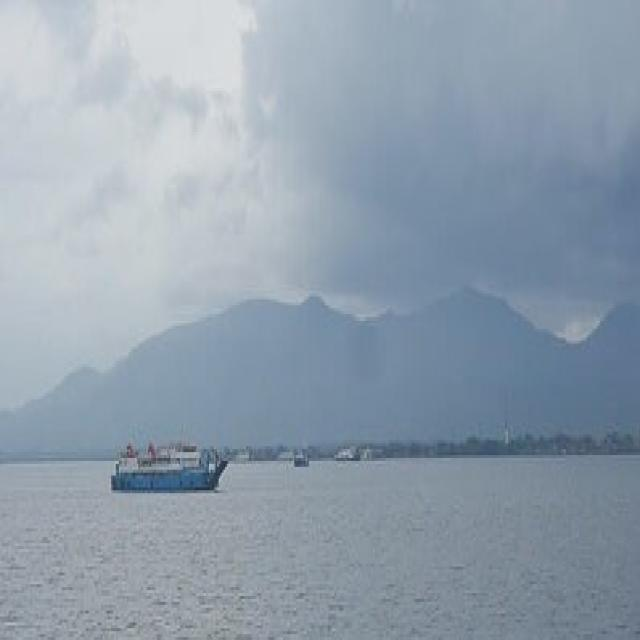fishing boat: (110, 436, 230, 495)
